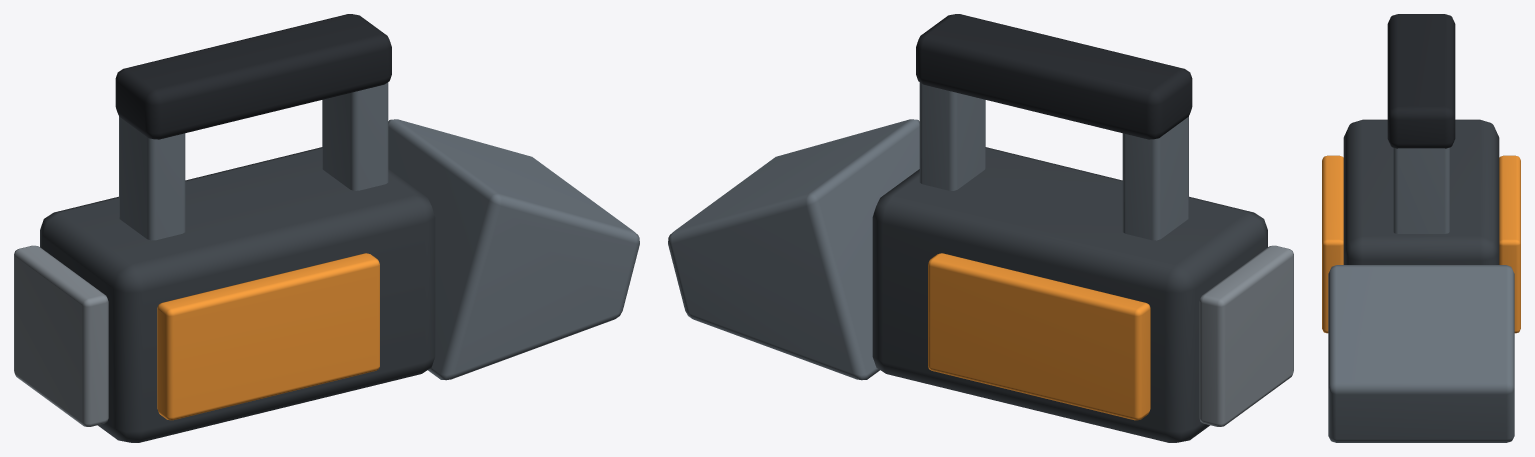
3 renders of one model, left to right at view 1: azimuth 30°, elevation 25°; view 2: azimuth 150°, elevation 25°; view 3: azimuth 270°, elevation 25°, orthographic. The views are drawn at different scales.
Visible parts, largest first — view 1: E03__Enclosed_power_body, E03__Blunt_working_head, E03__Amber_bumper, E03__Carry_handle, E03__Rear_service_cover, E03__Handle_support, E03__Handle_support.001; view 2: E03__Enclosed_power_body, E03__Blunt_working_head, E03__Amber_bumper.001, E03__Carry_handle, E03__Rear_service_cover, E03__Handle_support, E03__Handle_support.001; view 3: E03__Blunt_working_head, E03__Enclosed_power_body, E03__Carry_handle, E03__Handle_support.001, E03__Amber_bumper, E03__Amber_bumper.001.
Boxes of the visible parts, x1,y1,x2,y2 form: E03__Enclosed_power_body: (40, 147, 435, 442); E03__Blunt_working_head: (388, 119, 639, 380); E03__Amber_bumper: (157, 253, 379, 420); E03__Carry_handle: (115, 14, 391, 139); E03__Rear_service_cover: (14, 245, 108, 426); E03__Handle_support: (119, 116, 185, 240); E03__Handle_support.001: (322, 82, 388, 190); E03__Enclosed_power_body: (872, 147, 1267, 442); E03__Blunt_working_head: (668, 119, 919, 380); E03__Amber_bumper.001: (928, 253, 1150, 420); E03__Carry_handle: (916, 14, 1192, 139); E03__Rear_service_cover: (1199, 245, 1293, 426); E03__Handle_support: (1122, 116, 1188, 240); E03__Handle_support.001: (919, 82, 985, 190); E03__Blunt_working_head: (1328, 265, 1514, 442); E03__Enclosed_power_body: (1343, 119, 1499, 264); E03__Carry_handle: (1387, 14, 1455, 148); E03__Handle_support.001: (1393, 147, 1449, 233); E03__Amber_bumper: (1322, 155, 1343, 333); E03__Amber_bumper.001: (1499, 155, 1520, 333).
Bounding box in the file's own units: 0.5048 × 0.2925 × 0.192.
